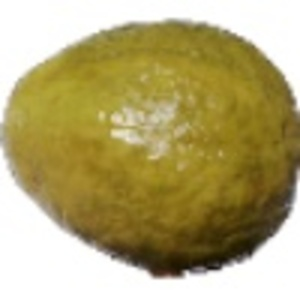goiaba: (1, 8, 294, 278)
